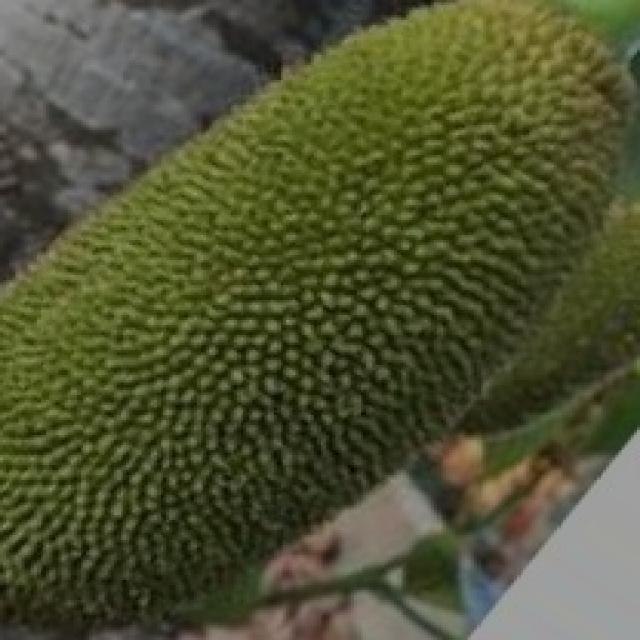Fruit: (234, 0, 640, 415)
